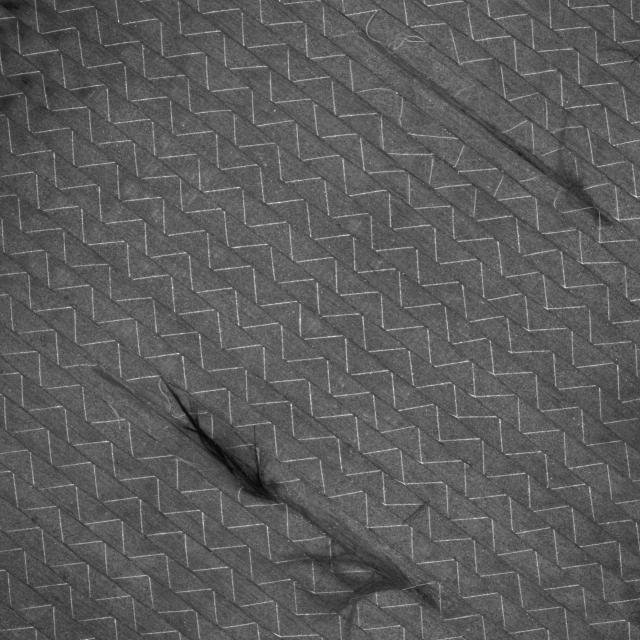carbon-fibre-defect: (100, 343, 489, 640), (320, 11, 625, 241)
